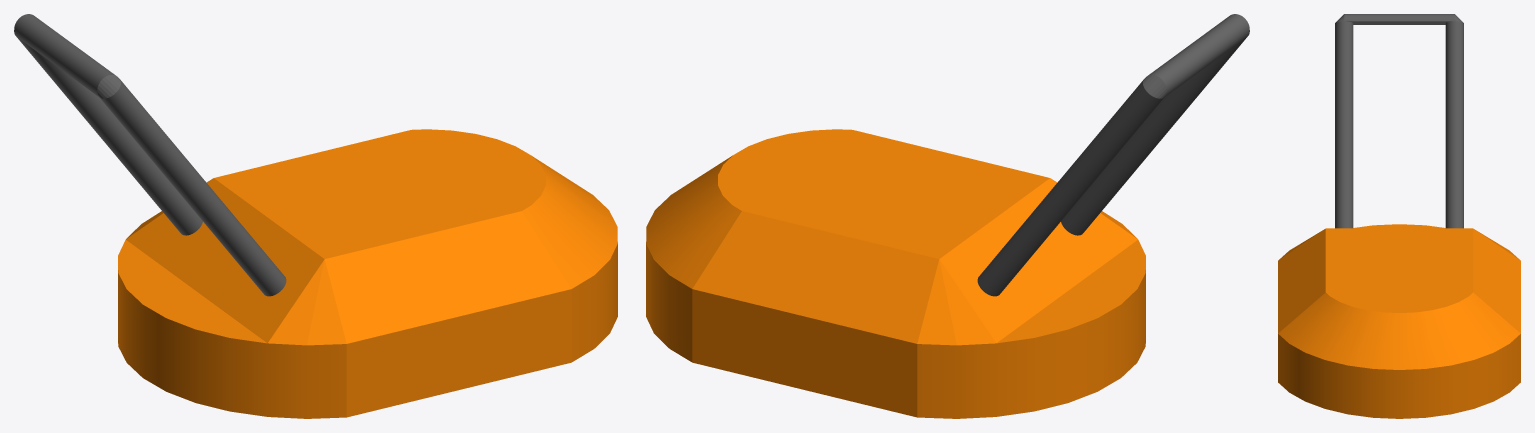
Rendered from LawnMover.fbx.
3 renders of one model, left to right at view 1: azimuth 30°, elevation 25°; view 2: azimuth 150°, elevation 25°; view 3: azimuth 270°, elevation 25°, orthographic. The views are drawn at different scales.
Parts seen in each view (by area): view 1: Untitled.008; view 2: Untitled.008; view 3: Untitled.008.
Part boxes in pixels (x1,y1,x2,y2): Untitled.008: (14, 14, 617, 418); Untitled.008: (646, 14, 1249, 418); Untitled.008: (1278, 14, 1520, 418).
Bounding box in the file's own units: 153 × 95.62 × 90.
